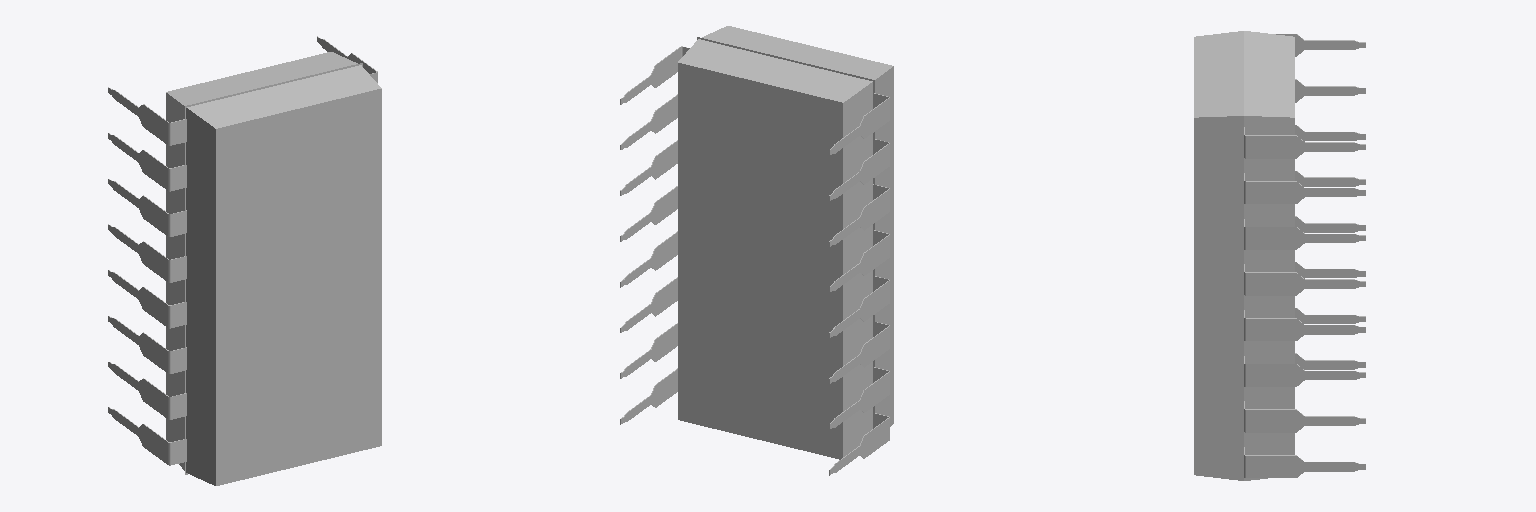
File: chip.obj
The picture shows the model from 3 angles: view 1: azimuth 30°, elevation 25°; view 2: azimuth 150°, elevation 25°; view 3: azimuth 270°, elevation 25°; orthographic projection.
Parts seen in each view (by area): view 1: Cube; view 2: Cube; view 3: Cube.
Boxes of the visible parts, x1=… form: Cube: x1=108, y1=36, x2=381, y2=485; Cube: x1=620, y1=26, x2=893, y2=475; Cube: x1=1194, y1=31, x2=1365, y2=480.
Bounding box in the file's own units: 2.4 × 4.04 × 1.7.